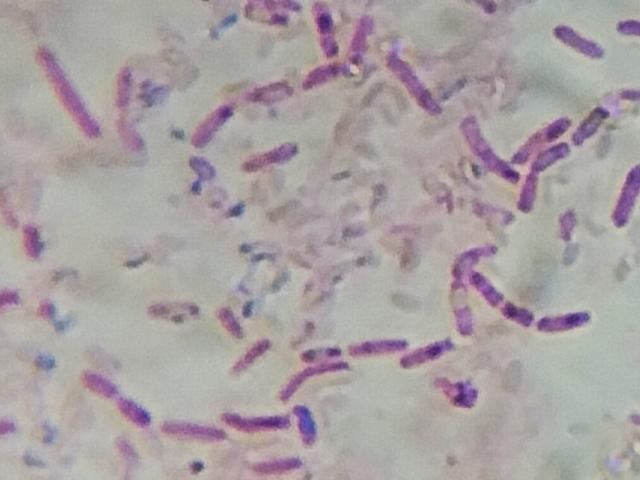E. coli: (38, 46, 105, 133), (464, 112, 518, 184), (390, 54, 448, 119), (190, 91, 238, 153), (278, 366, 358, 400), (551, 18, 609, 64), (238, 141, 307, 174), (613, 156, 640, 229), (230, 334, 275, 377), (313, 0, 345, 56), (162, 420, 224, 446), (452, 238, 496, 274), (224, 410, 292, 433), (448, 276, 472, 340), (524, 117, 575, 147), (540, 310, 595, 336), (250, 76, 296, 106), (349, 335, 408, 358), (118, 390, 153, 428), (77, 366, 116, 400), (246, 450, 308, 471), (405, 339, 456, 363), (350, 11, 374, 60), (218, 298, 244, 341), (304, 60, 345, 87), (25, 221, 52, 261), (297, 342, 344, 364), (523, 168, 543, 219), (500, 294, 533, 324), (477, 270, 499, 307), (0, 284, 21, 311)
